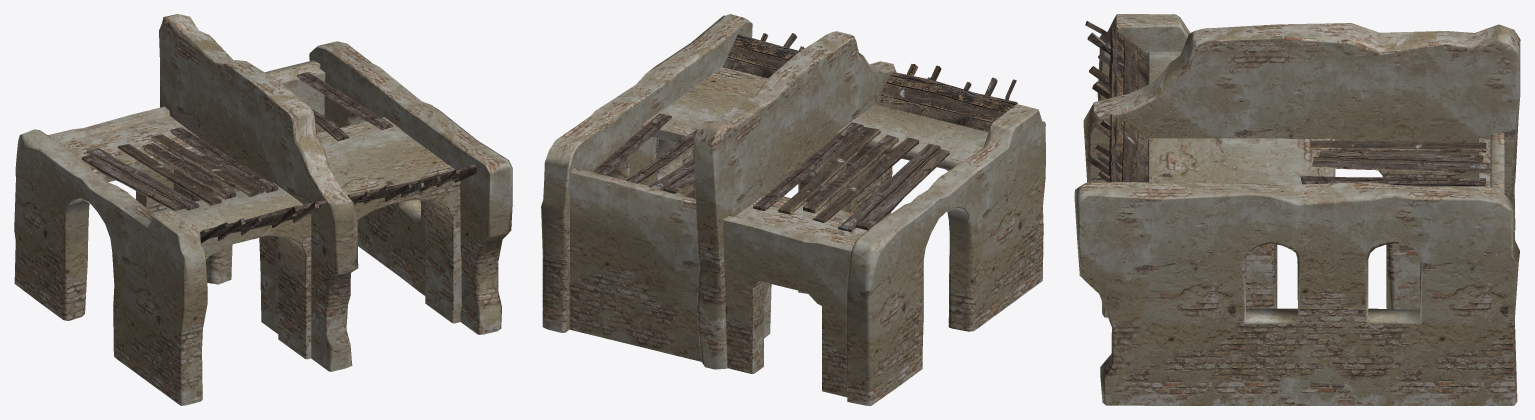
File: houseWall0.fbx
3 views of the same model, side by side, from view 1: azimuth 30°, elevation 25°; view 2: azimuth 150°, elevation 25°; view 3: azimuth 270°, elevation 25° (orthographic). The views are drawn at different scales.
Parts seen in each view (by area): view 1: LV_Campagna_CityHouse_BlackSmith01_SM_SVR; view 2: LV_Campagna_CityHouse_BlackSmith01_SM_SVR; view 3: LV_Campagna_CityHouse_BlackSmith01_SM_SVR.
Part boxes in pixels (bbox=[...]): LV_Campagna_CityHouse_BlackSmith01_SM_SVR: bbox=[14, 14, 512, 405]; LV_Campagna_CityHouse_BlackSmith01_SM_SVR: bbox=[541, 14, 1045, 405]; LV_Campagna_CityHouse_BlackSmith01_SM_SVR: bbox=[1074, 14, 1520, 405].
Size of the model in its own units: 2.25 by 1.58 by 2.24.
2 materials, 2 textured.
